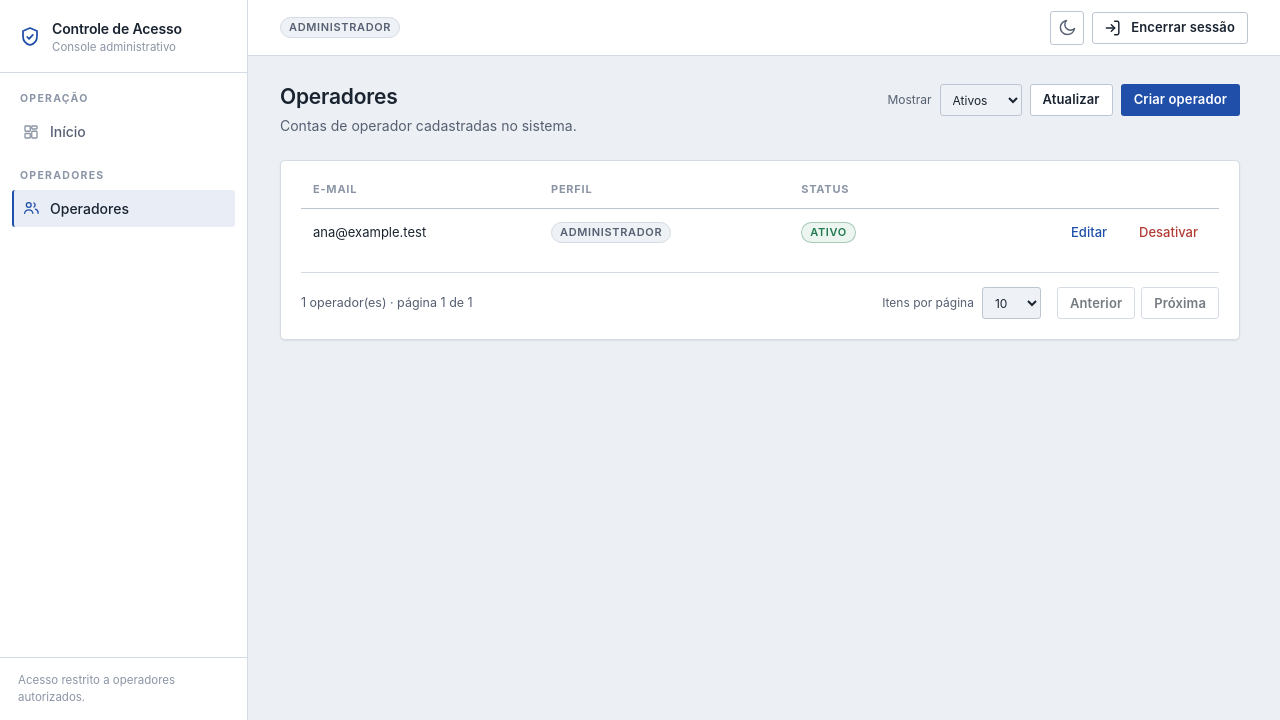
Test: App: jornada da lista para a edição › abre a edição já preenchida com os dados da linha clicada
Click the link "Editar" at {"x": 1089, "y": 232}, box [1071,224,1107,240]
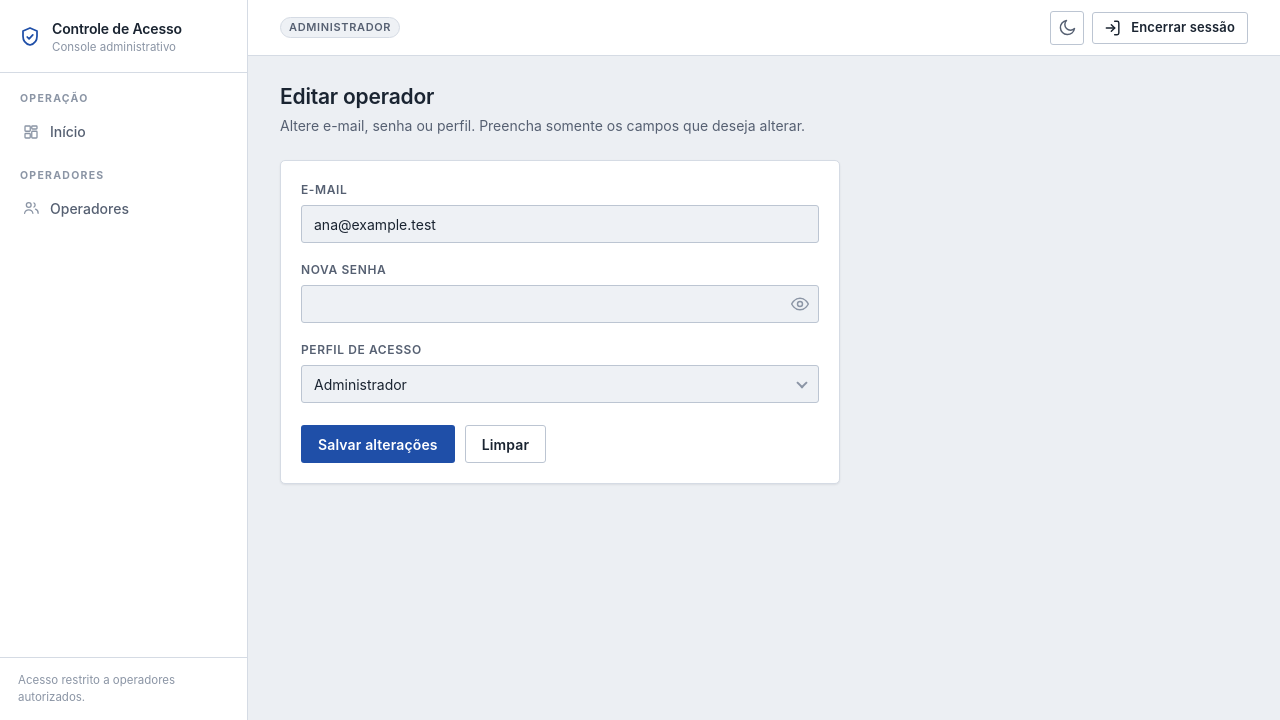
Expected: the heading "Editar operador" is shown, [280,84,434,109]
Expected: the field labelled "E-mail" holds "ana@example.test", [301,205,819,243]
Expected: the dropdown labelled "Perfil de acesso" shows "Administrador", [301,365,819,403]
